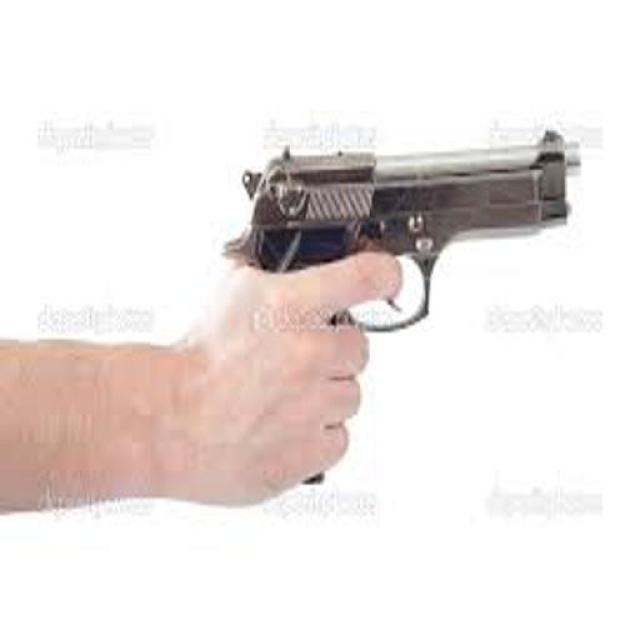pistol: (230, 131, 585, 487)
